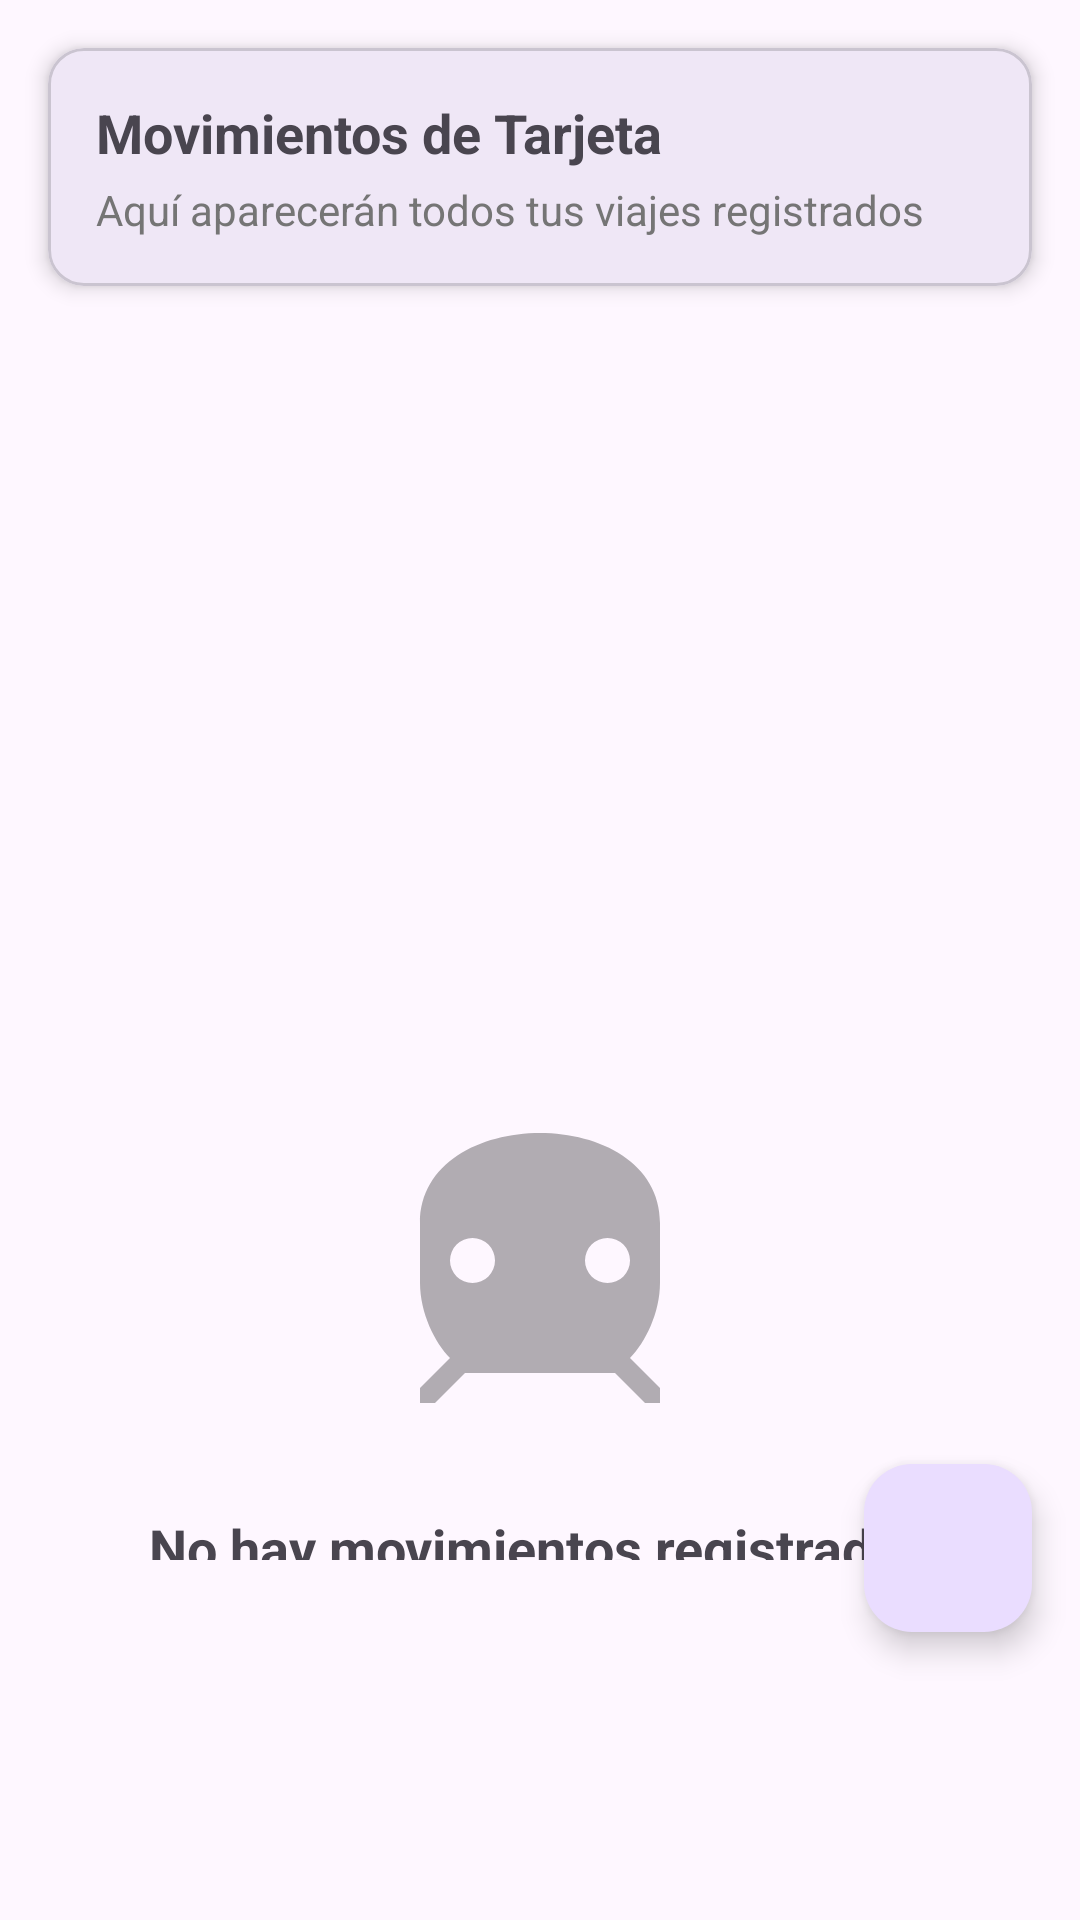

Named icons in this screenshot (1080w x 1920h) and their centers, (x,y):
train: (540,1268)
